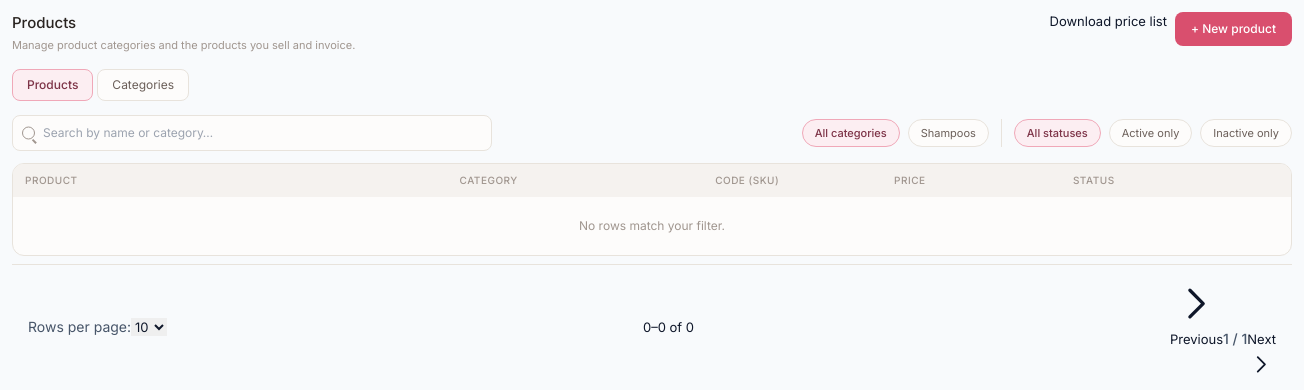
Scenario: ProductsPage › shows the product count in the categories tab
Click the button "Categories" at (143, 85), box [97,69,189,101]
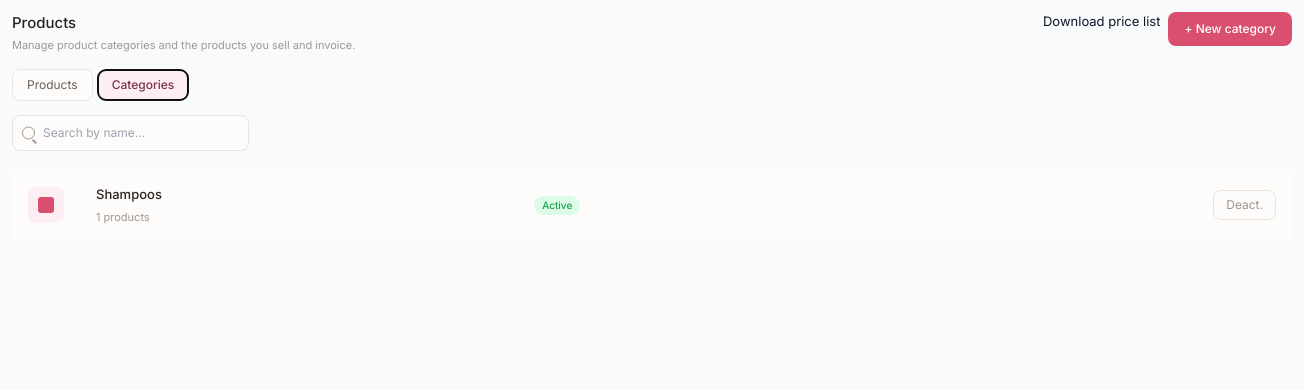
Now the text "1 products" is shown, box [96,210,150,224]
